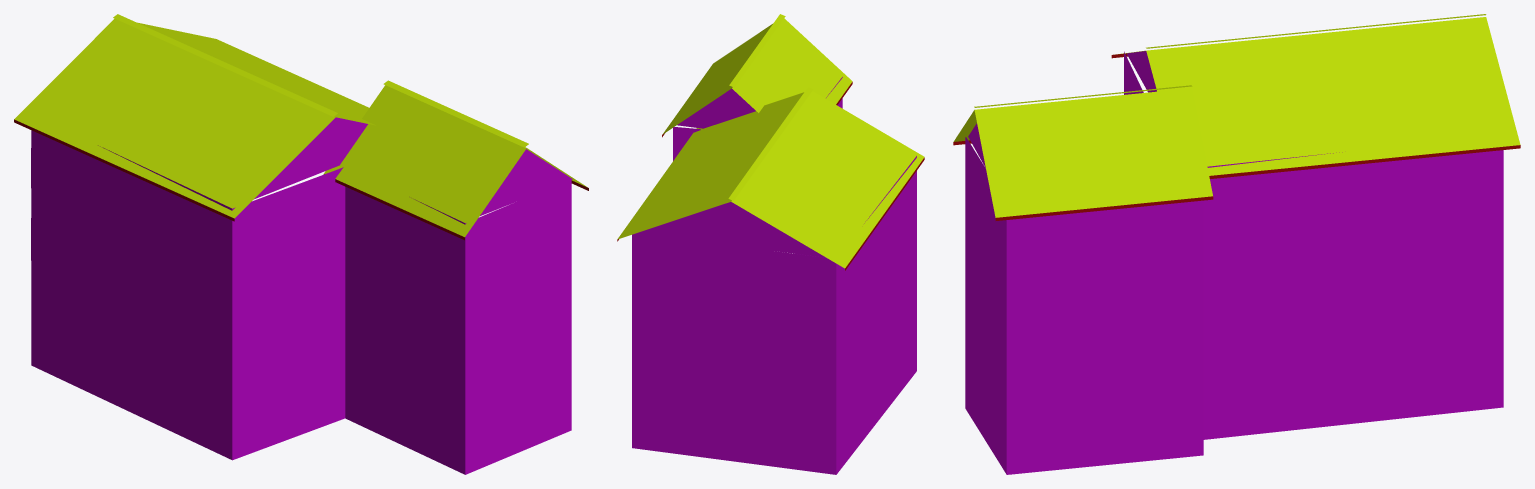
The model's file is bgj_326.glb.
The picture shows the model from 3 angles, left to right: view 1: azimuth 30°, elevation 25°; view 2: azimuth 150°, elevation 25°; view 3: azimuth 270°, elevation 25°; orthographic projection. The views are drawn at different scales.
Visible parts, largest first — view 1: bgj_326; view 2: bgj_326; view 3: bgj_326.
Part boxes in pixels (<box>): bgj_326: <box>14,14,588,474</box>; bgj_326: <box>617,14,924,474</box>; bgj_326: <box>953,14,1520,474</box>.
Size of the model in its own units: 14.93 by 12.18 by 18.57.
